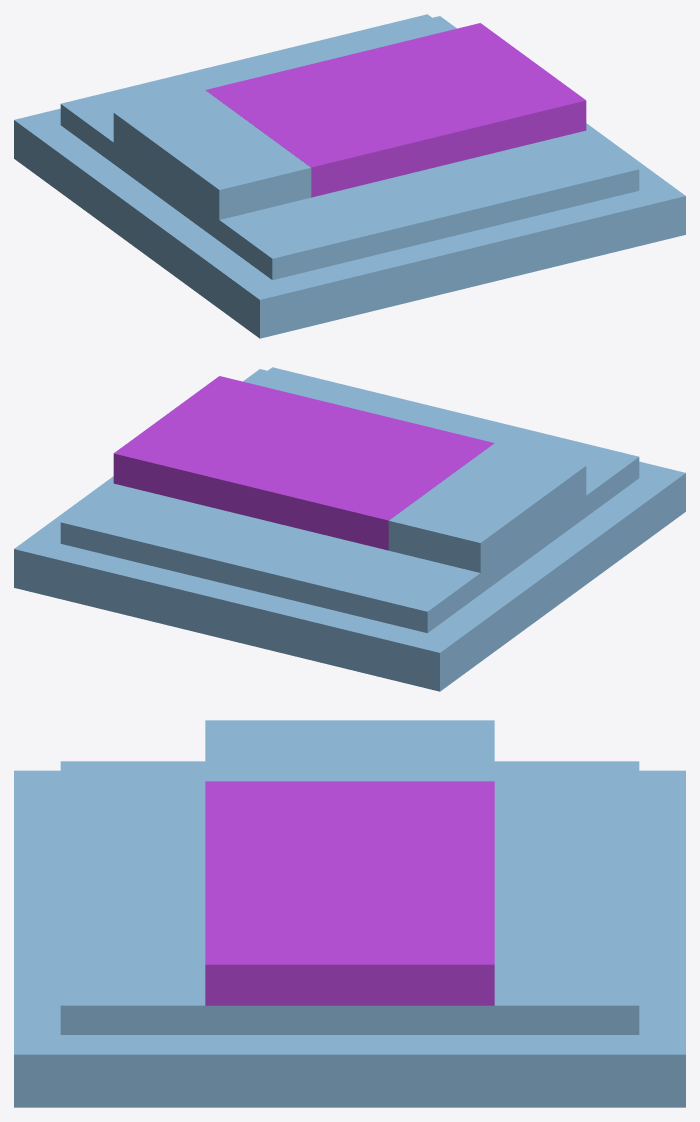
The model's file is borad.fbx.
3 renders of one model, top to bottom at view 1: azimuth 30°, elevation 25°; view 2: azimuth 150°, elevation 25°; view 3: azimuth 270°, elevation 25°, orthographic. The views are drawn at different scales.
Parts seen in each view (by area): view 1: table; view 2: table; view 3: table.
Boxes of the visible parts, x1,y1,x2,y2 form: table: (14,14,685,338); table: (14,367,685,691); table: (14,720,685,1107).
Bounding box in the file's own units: 2 × 0.4051 × 2.
